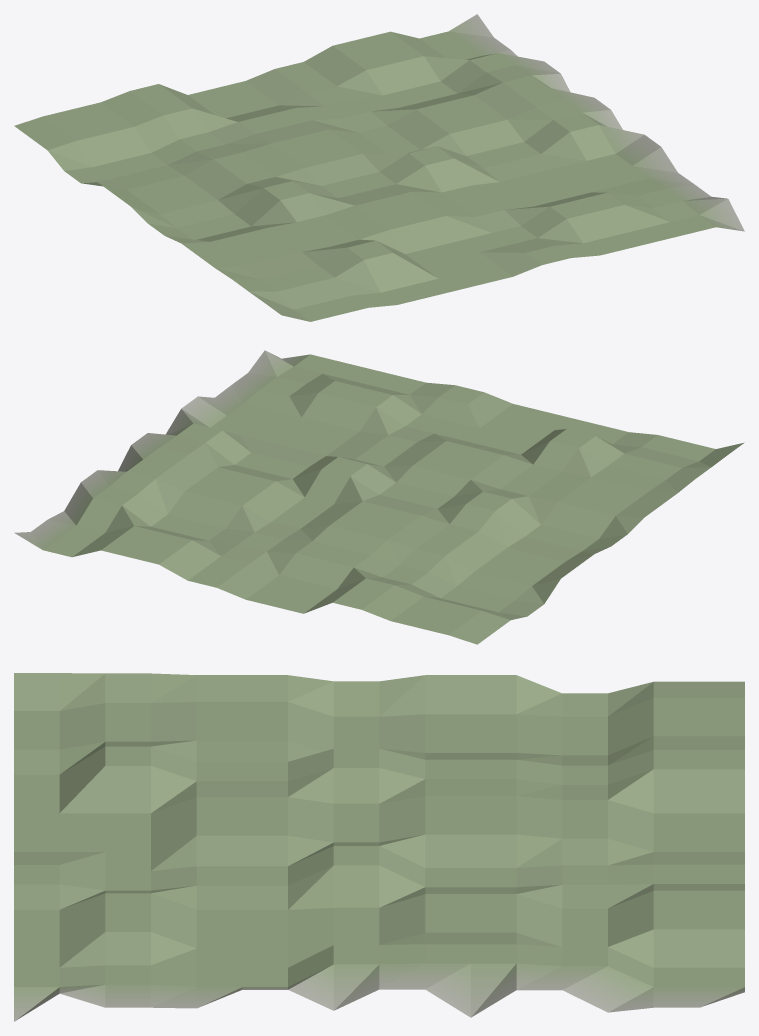
3 renders of one model, top to bottom at view 1: azimuth 30°, elevation 25°; view 2: azimuth 150°, elevation 25°; view 3: azimuth 270°, elevation 25°, orthographic. The views are drawn at different scales.
Size of the model in its own units: 32 by 2.11 by 32.
